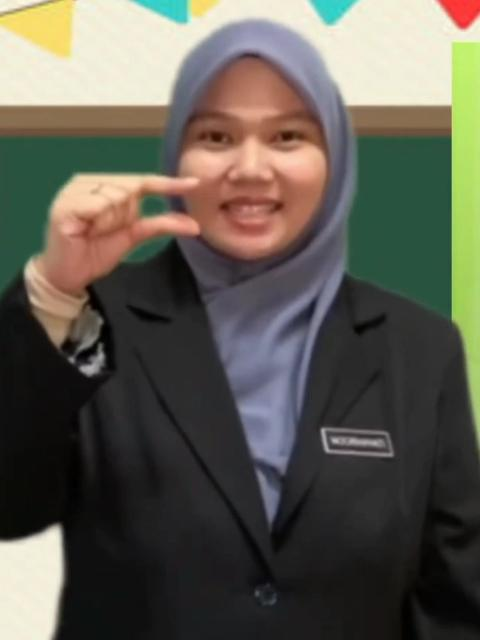G: (39, 174, 205, 276)
